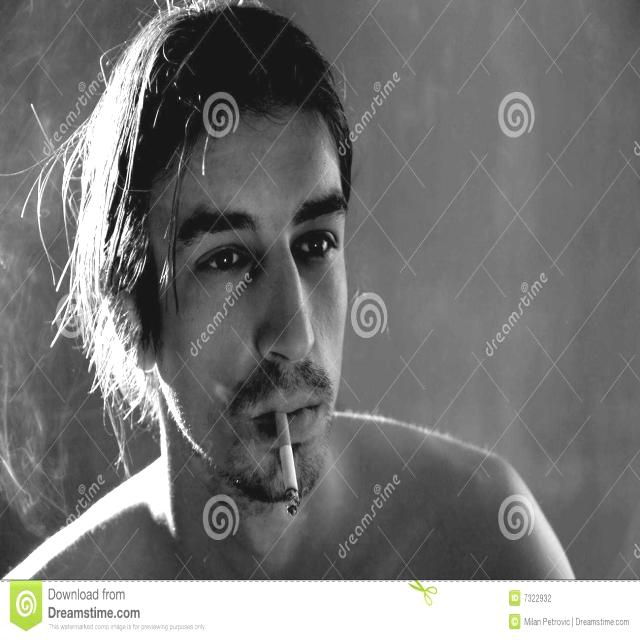Smooking: (272, 414, 313, 518)
